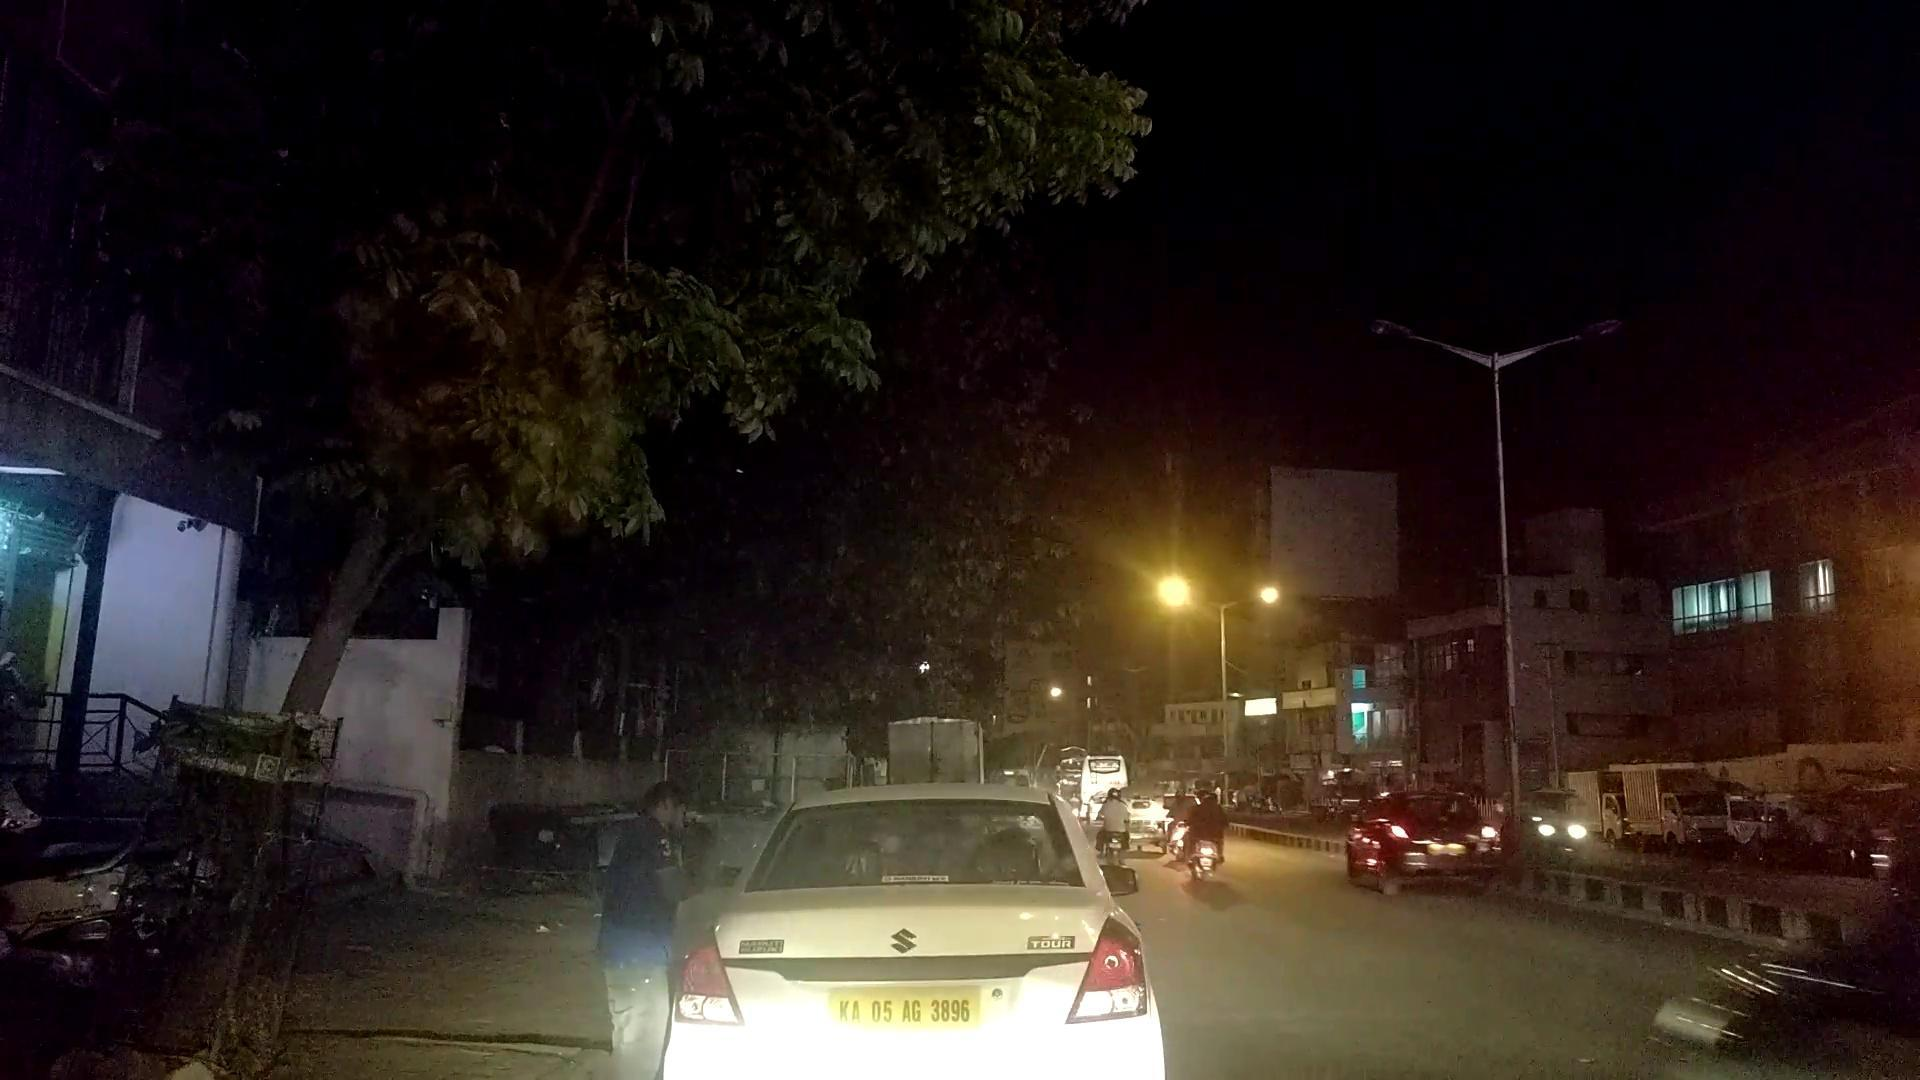on: (1069, 462, 1559, 939)
